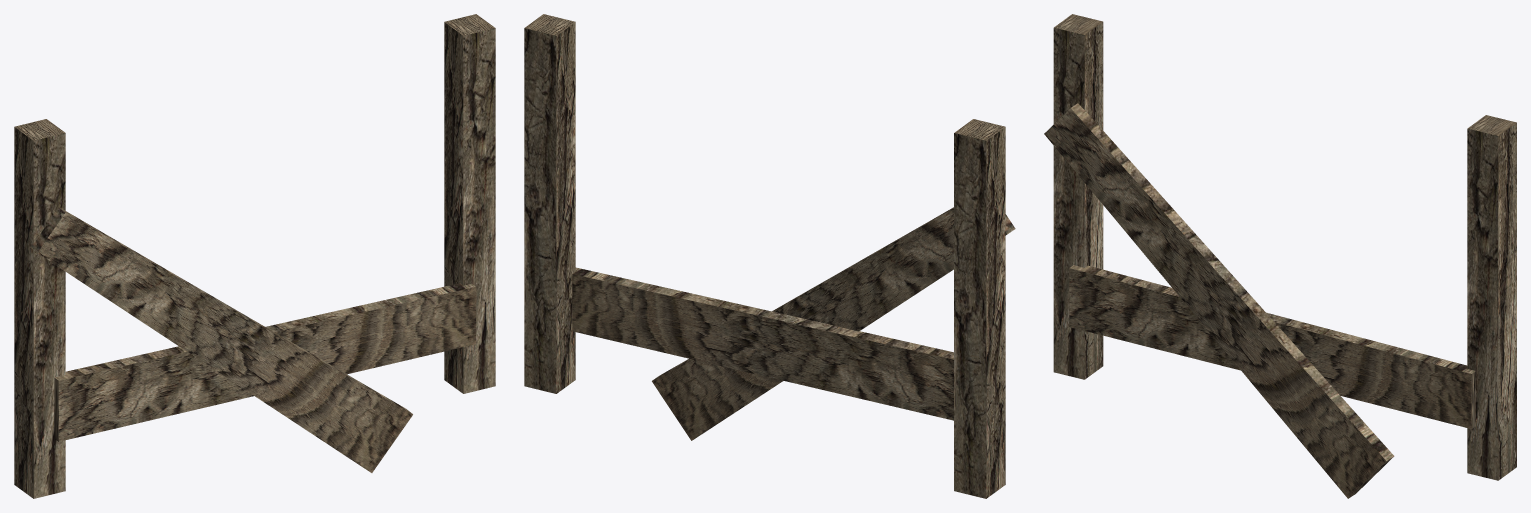
Rendered from FenceTopBroken.FBX.
3 renders of one model, left to right at view 1: azimuth 30°, elevation 25°; view 2: azimuth 150°, elevation 25°; view 3: azimuth 330°, elevation 25°, orthographic. The views are drawn at different scales.
Visible parts, largest first — view 1: Line007, Line006, Box005, Box006; view 2: Line006, Box005, Box006, Line007; view 3: Line007, Line006, Box006, Box005.
Boxes of the visible parts, x1,y1,x2,y2 form: Line007: (30, 207, 412, 472); Line006: (54, 283, 476, 441); Box005: (14, 119, 65, 498); Box006: (444, 14, 495, 393); Line006: (572, 267, 953, 420); Box005: (954, 119, 1005, 498); Box006: (524, 14, 575, 393); Line007: (652, 207, 1015, 440); Line007: (1044, 103, 1394, 498); Line006: (1069, 265, 1475, 428); Box006: (1467, 115, 1516, 480); Box005: (1053, 14, 1103, 379).
Size of the model in its own units: 69.89 by 57.32 by 9.44.
Materials: 1 (1 with a texture image).
